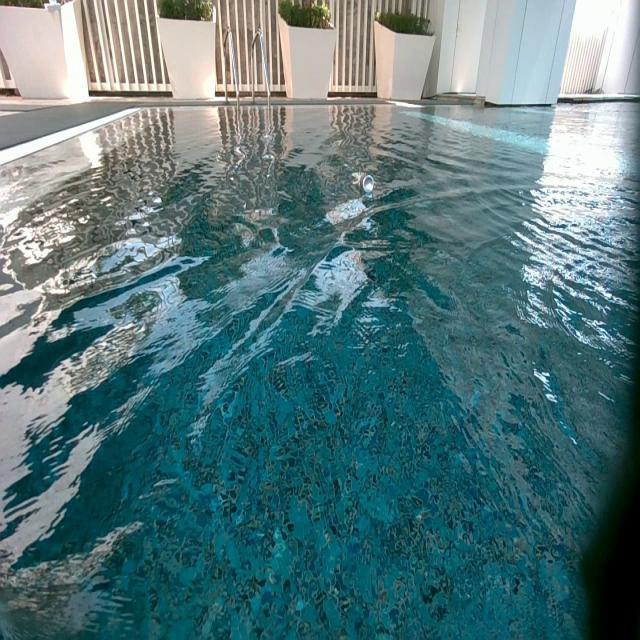Cans: (359, 172, 374, 193)
